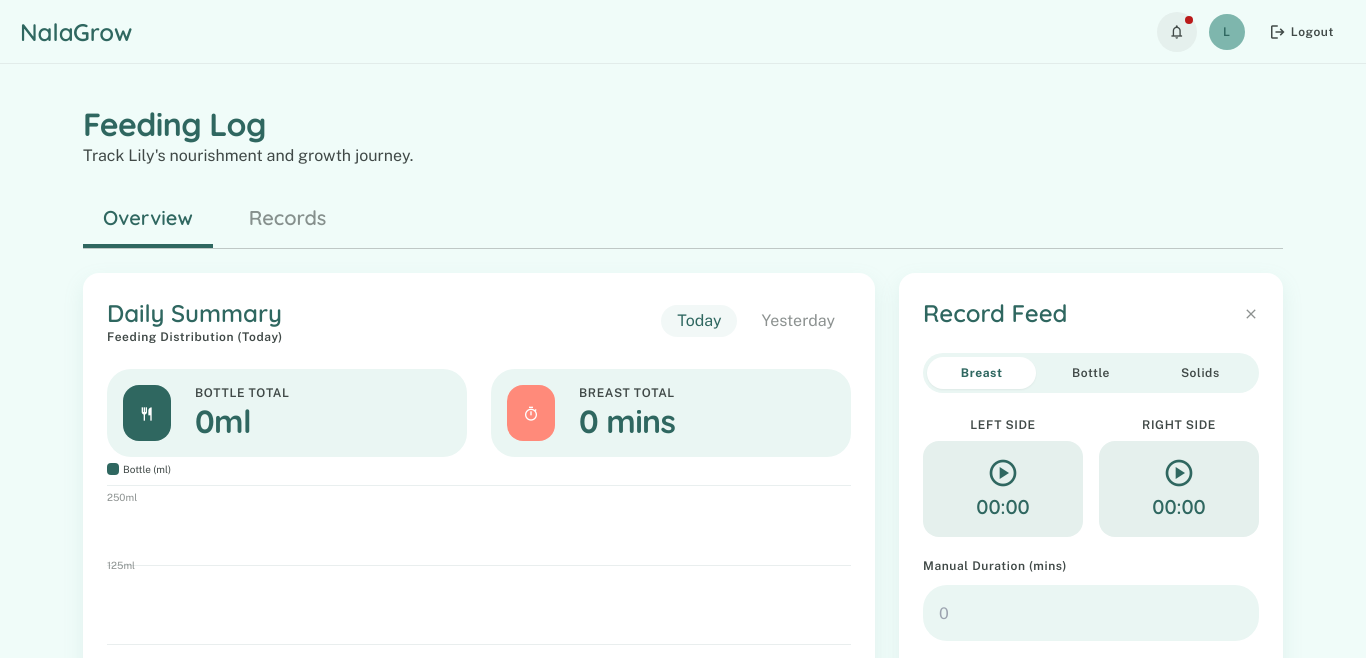
Test case: FeedingPage › Tab switching › hides BottleForm when switching to Solids
What coordinates should you click on to do the following:
click the button "Bottle"
I would click on:
 (1091, 373)
Its box is [1036, 357, 1146, 389].
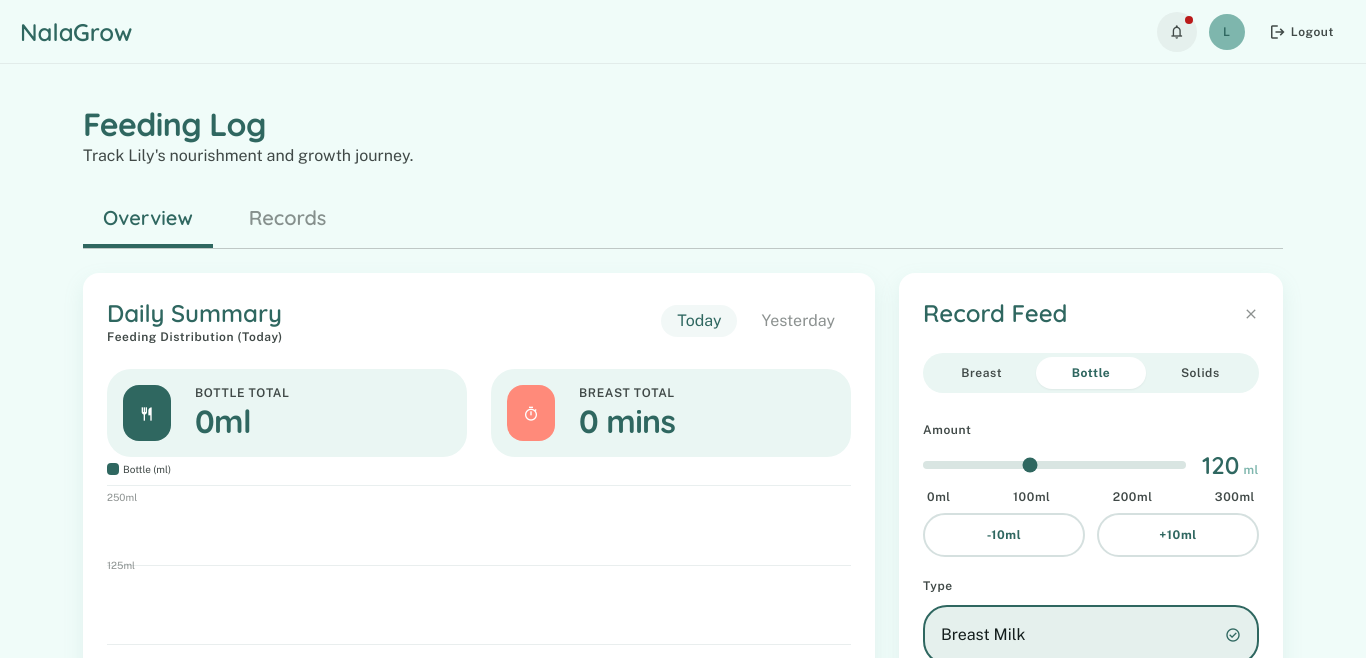
Result: the text "Amount" is shown at [923, 423, 971, 437]
What coordinates should you click on to do the following:
click the button "Solids"
I would click on:
 (1200, 373)
Its box is [1146, 357, 1255, 389].
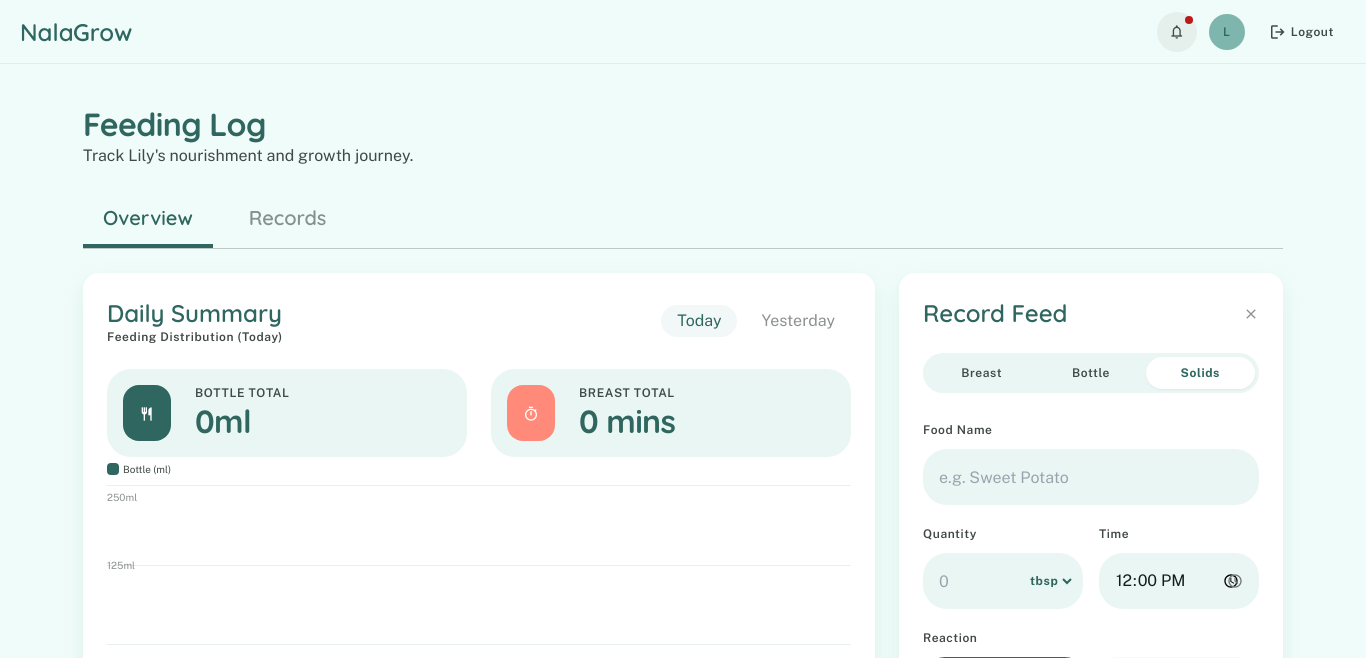
Result: the text "Amount" is gone
